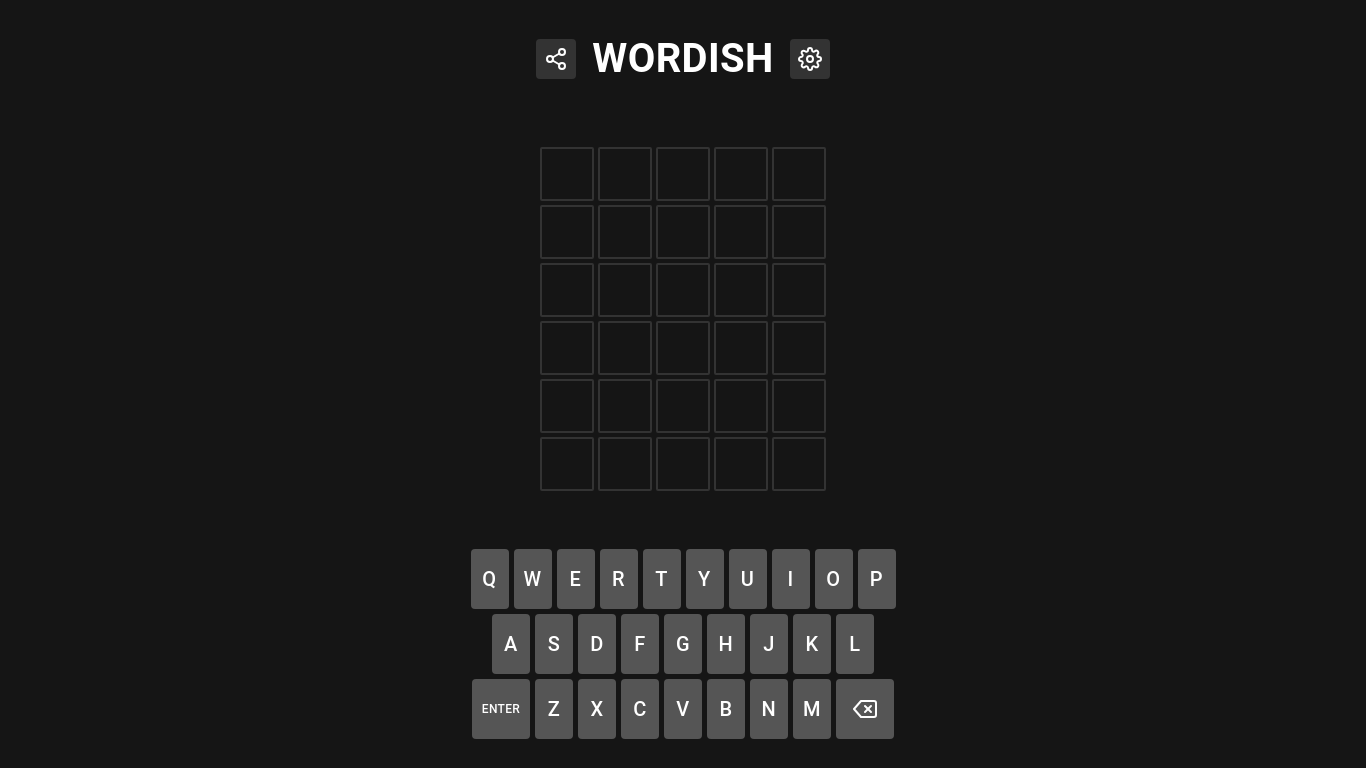
Wordish › Header component › should reveal the StatsDialog when the "stats and share" button is clicked
The image size is (1366, 768).
Expected: the header with test id "header-grid" is shown, x1=536 y1=35 x2=829 y2=82
Click the button named "Stats and Share". click: [556, 59]
box: x1=536 y1=39 x2=576 y2=79
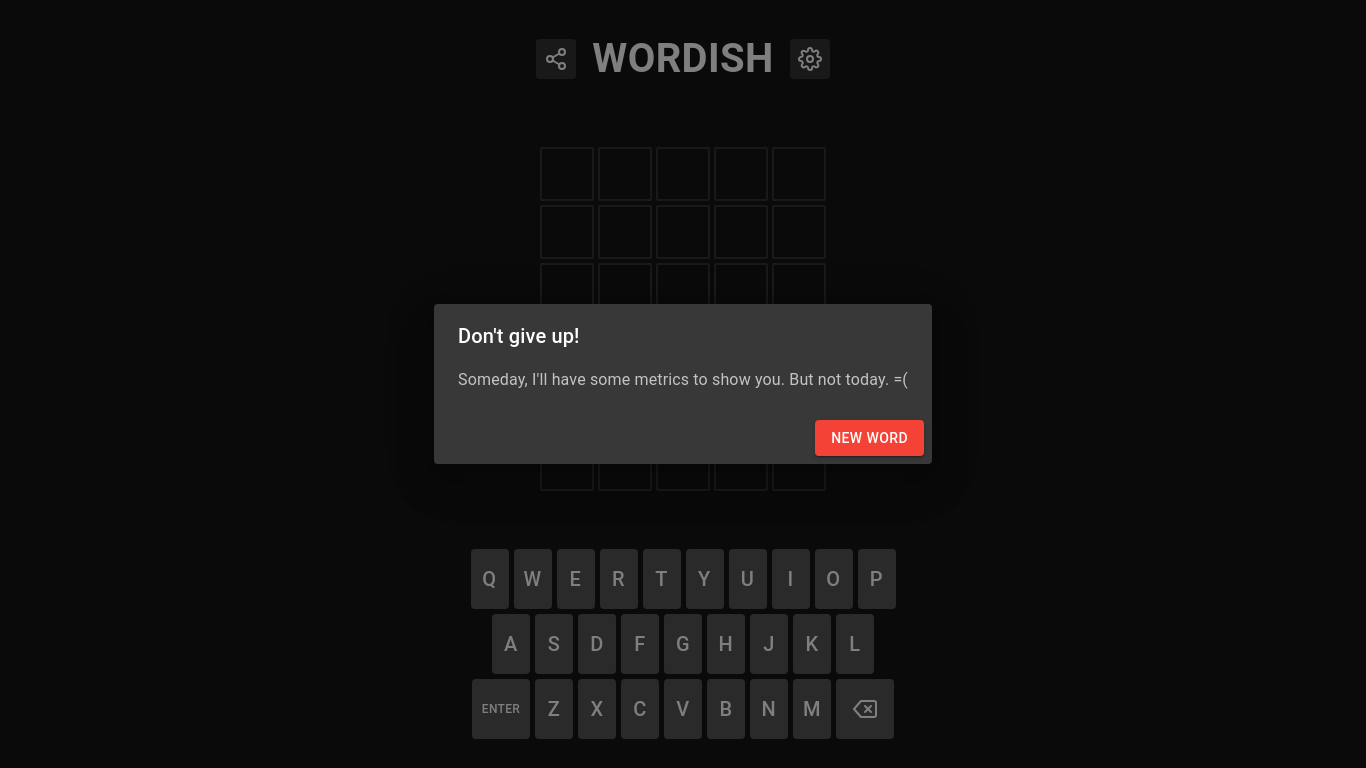
Expected: the dialog is shown, x1=434 y1=304 x2=932 y2=465
